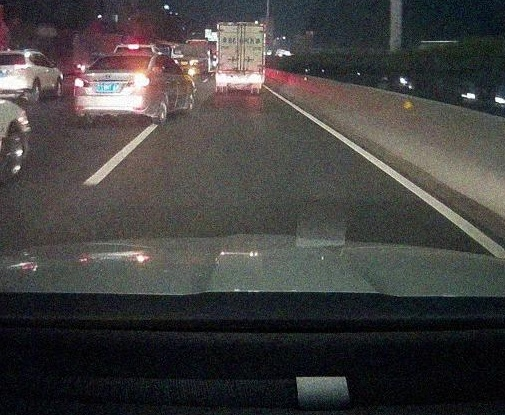L_light: (128, 76, 150, 87), (75, 76, 91, 87), (216, 74, 227, 80)
R_light: (250, 74, 261, 81)
T_light: (123, 56, 134, 59), (236, 23, 246, 26)
night-no: (216, 22, 265, 95)
night-right: (74, 51, 160, 124)
